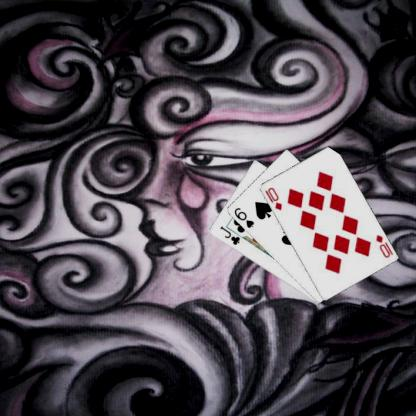10D: (262, 184, 283, 212), (373, 232, 394, 259)
6S: (232, 205, 255, 229)
JC: (217, 223, 241, 246)
